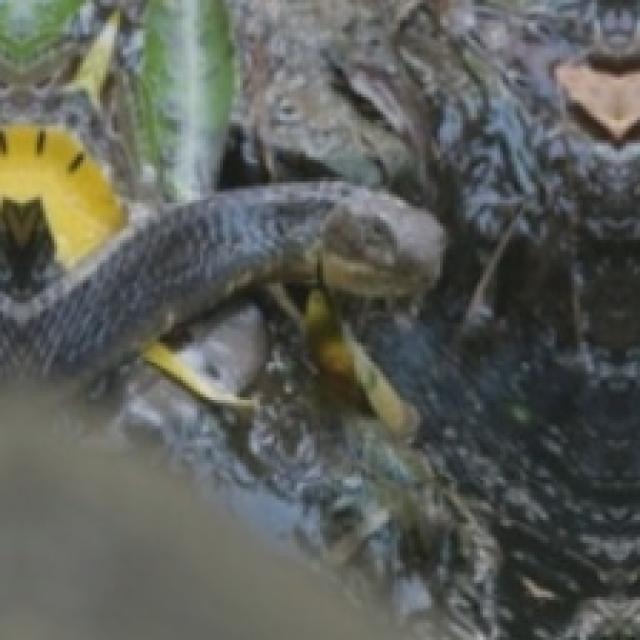king cobra: (0, 126, 443, 371), (0, 180, 443, 374)
